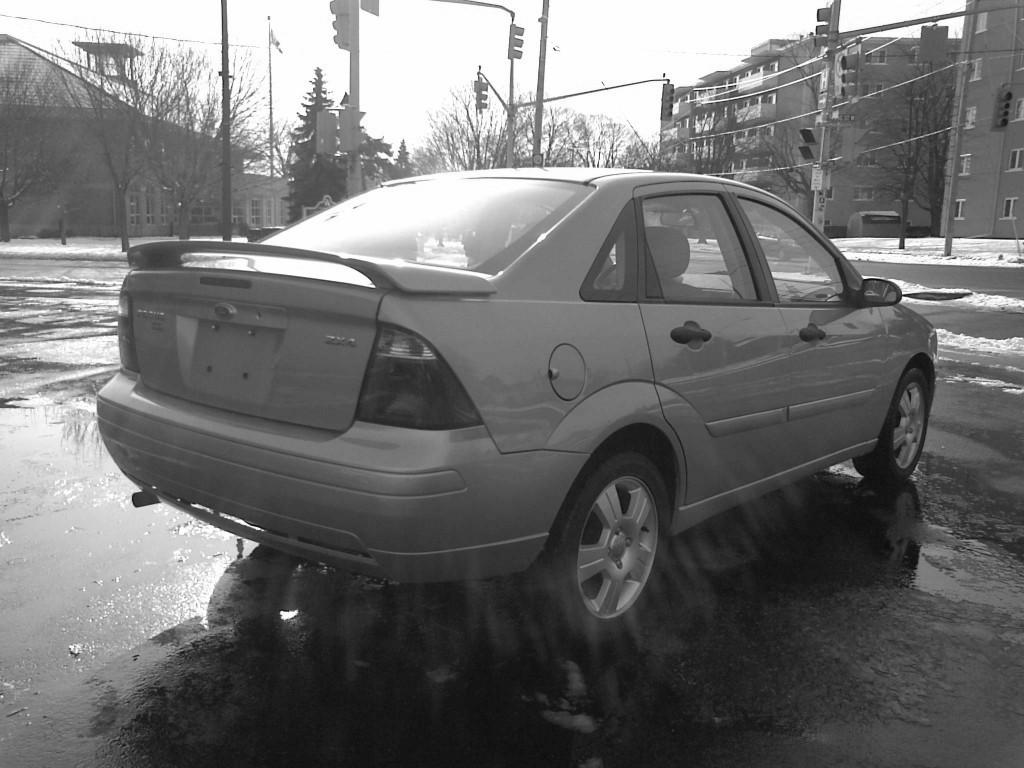car: (97, 166, 940, 638)
